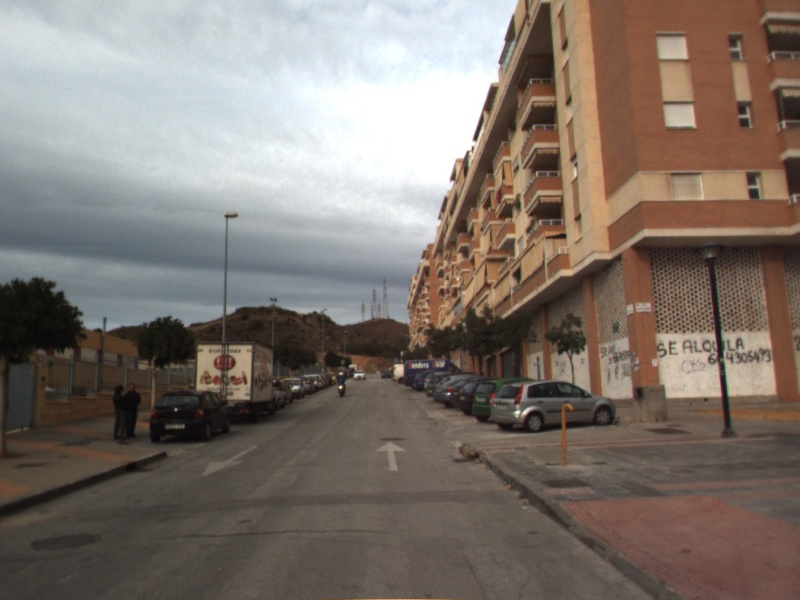STRAIGHT: (374, 439, 409, 473)
